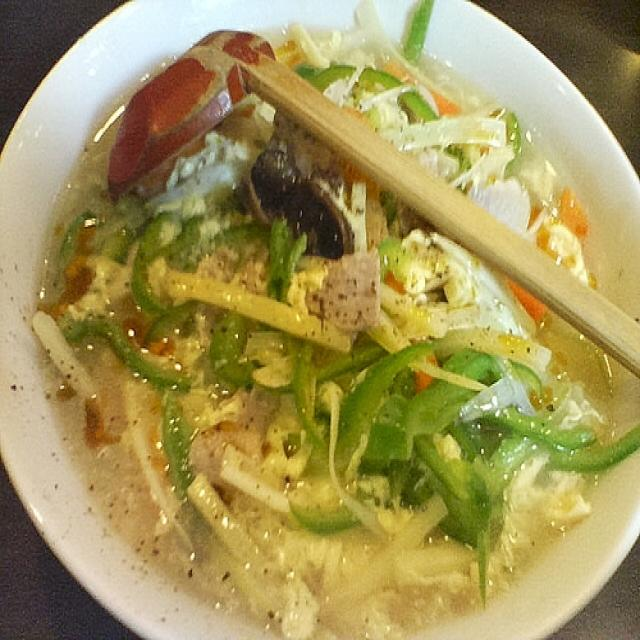面条主食: (4, 5, 635, 618)
